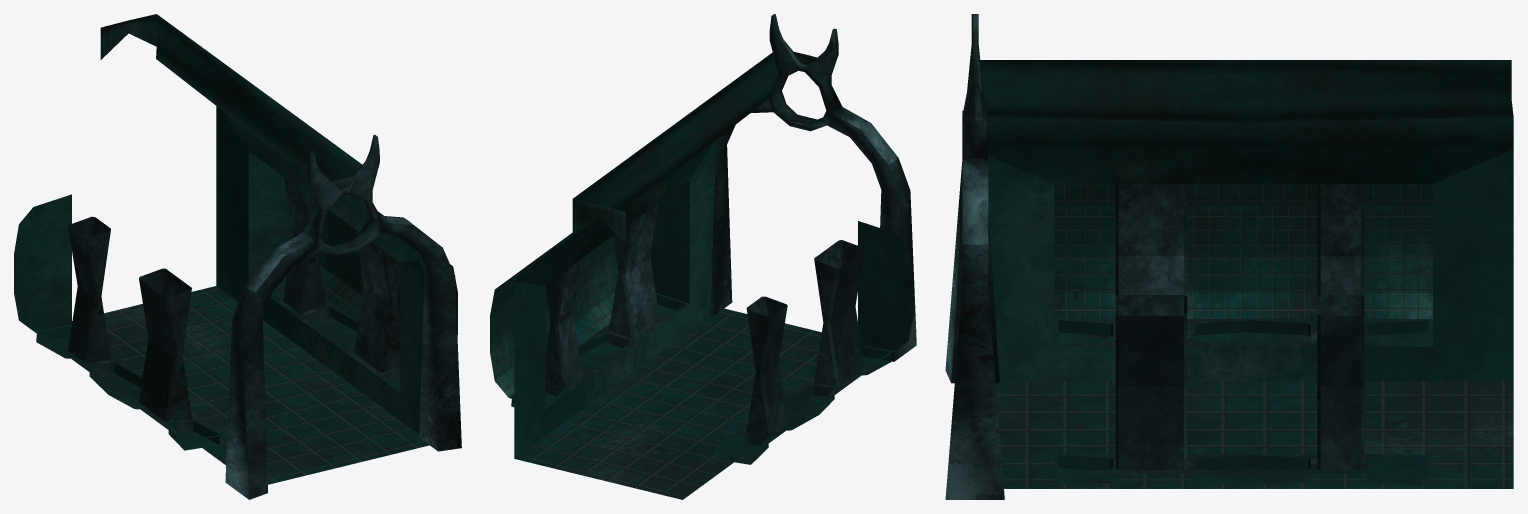
Rendered from MOD_L2_Hallway1.fbx.
3 renders of one model, left to right at view 1: azimuth 30°, elevation 25°; view 2: azimuth 150°, elevation 25°; view 3: azimuth 270°, elevation 25°, orthographic. The views are drawn at different scales.
Visible parts, largest first — view 1: Plane.002; view 2: Plane.002; view 3: Plane.002.
Part boxes in pixels (bbox=[...]): Plane.002: bbox=[14, 14, 461, 499]; Plane.002: bbox=[490, 14, 916, 499]; Plane.002: bbox=[945, 14, 1513, 499].
Size of the model in its own units: 24.28 by 25.57 by 32.76.
